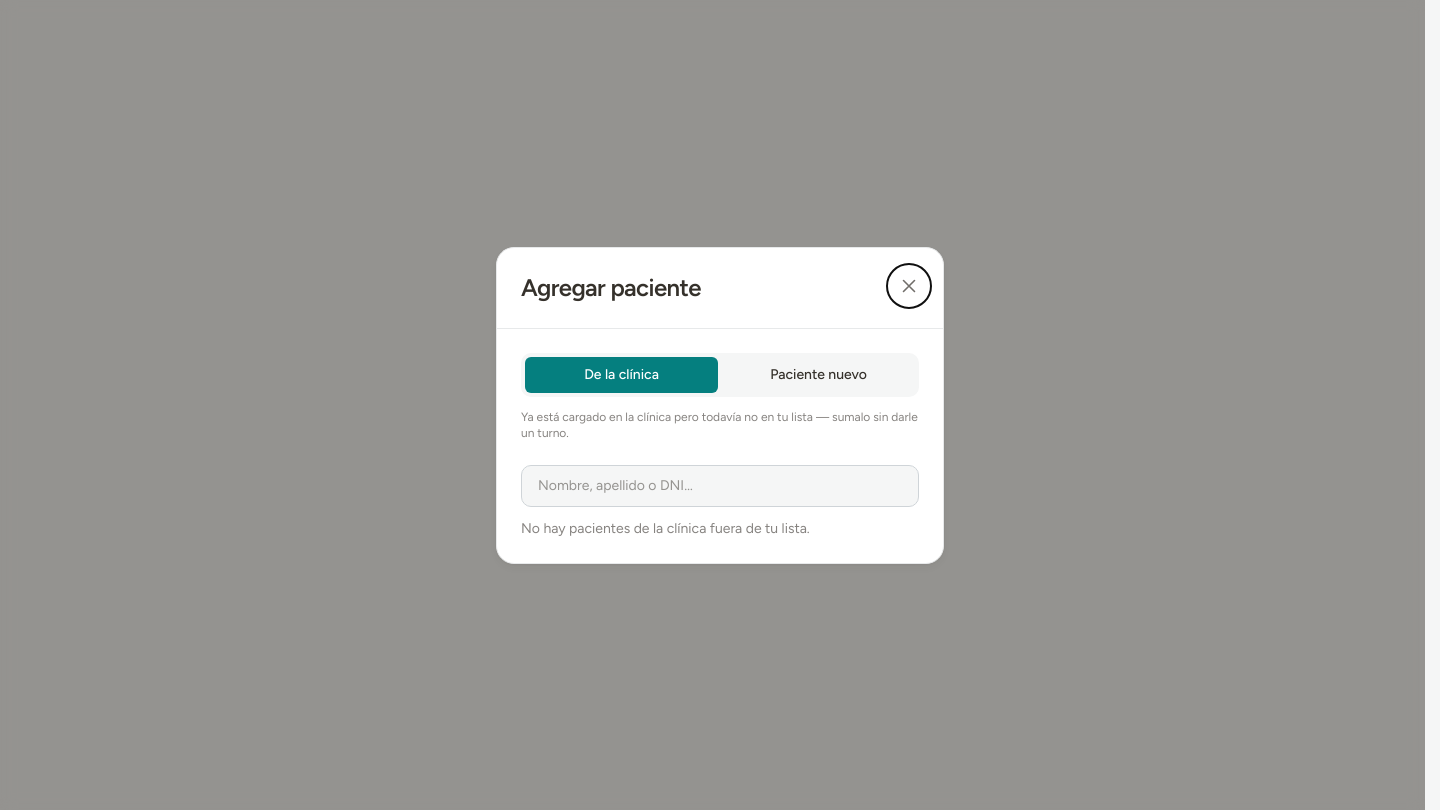
Test case: AgregarPacienteModal › el profesional es obligatorio › lo pide antes que cualquier otro dato
Click the button "Paciente nuevo" at (818, 374), box [722,356,915,392]
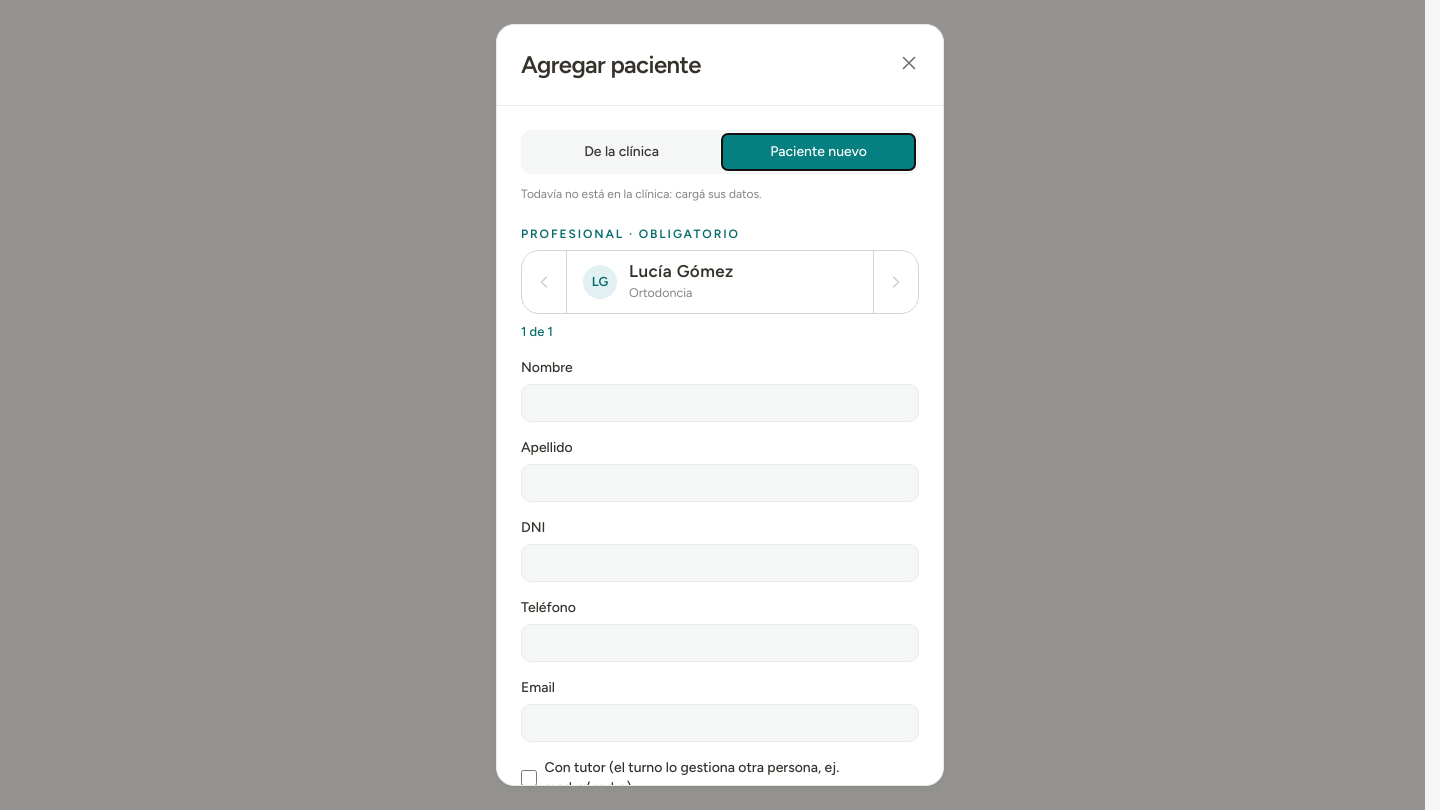
Expected: the text "Profesional · Obligatorio" is shown, [521,227,740,241]
